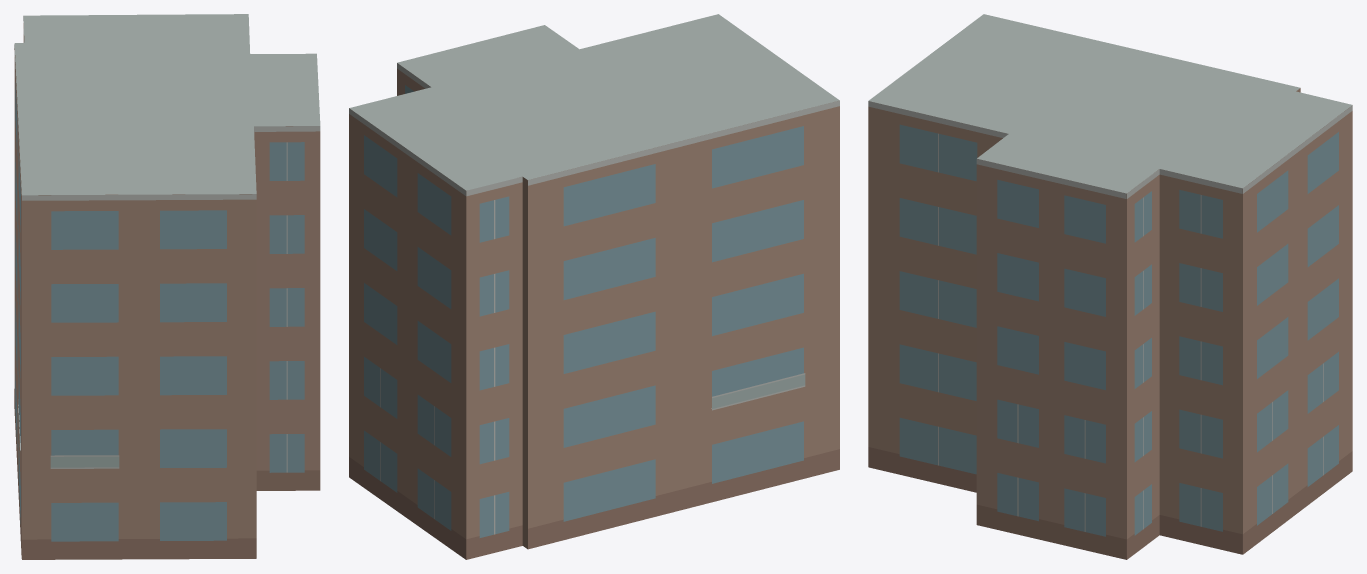
Rendered from survey-upis-32975020.glb.
The picture shows the model from 3 angles, left to right: view 1: azimuth 30°, elevation 25°; view 2: azimuth 150°, elevation 25°; view 3: azimuth 270°, elevation 25°; orthographic projection.
Parts seen in each view (by area): view 1: survey-upis-32975020.tmp; view 2: survey-upis-32975020.tmp; view 3: survey-upis-32975020.tmp.
Part boxes in pixels (left/top/right/bottom): survey-upis-32975020.tmp: left=14, top=14, right=320, bottom=559; survey-upis-32975020.tmp: left=349, top=14, right=839, bottom=559; survey-upis-32975020.tmp: left=868, top=14, right=1352, bottom=559.
Size of the model in its own units: 16.67 by 15.85 by 19.
